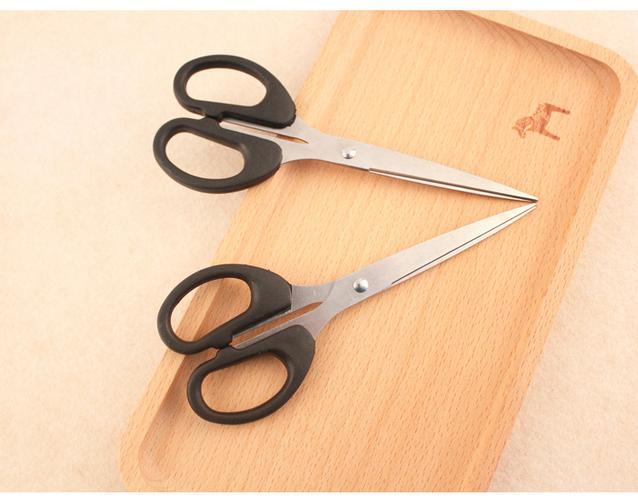scissor: (158, 205, 536, 425), (152, 52, 541, 199)
